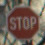stopsign: (6, 5, 41, 40)
